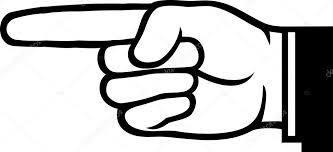hand: (1, 1, 285, 148)
